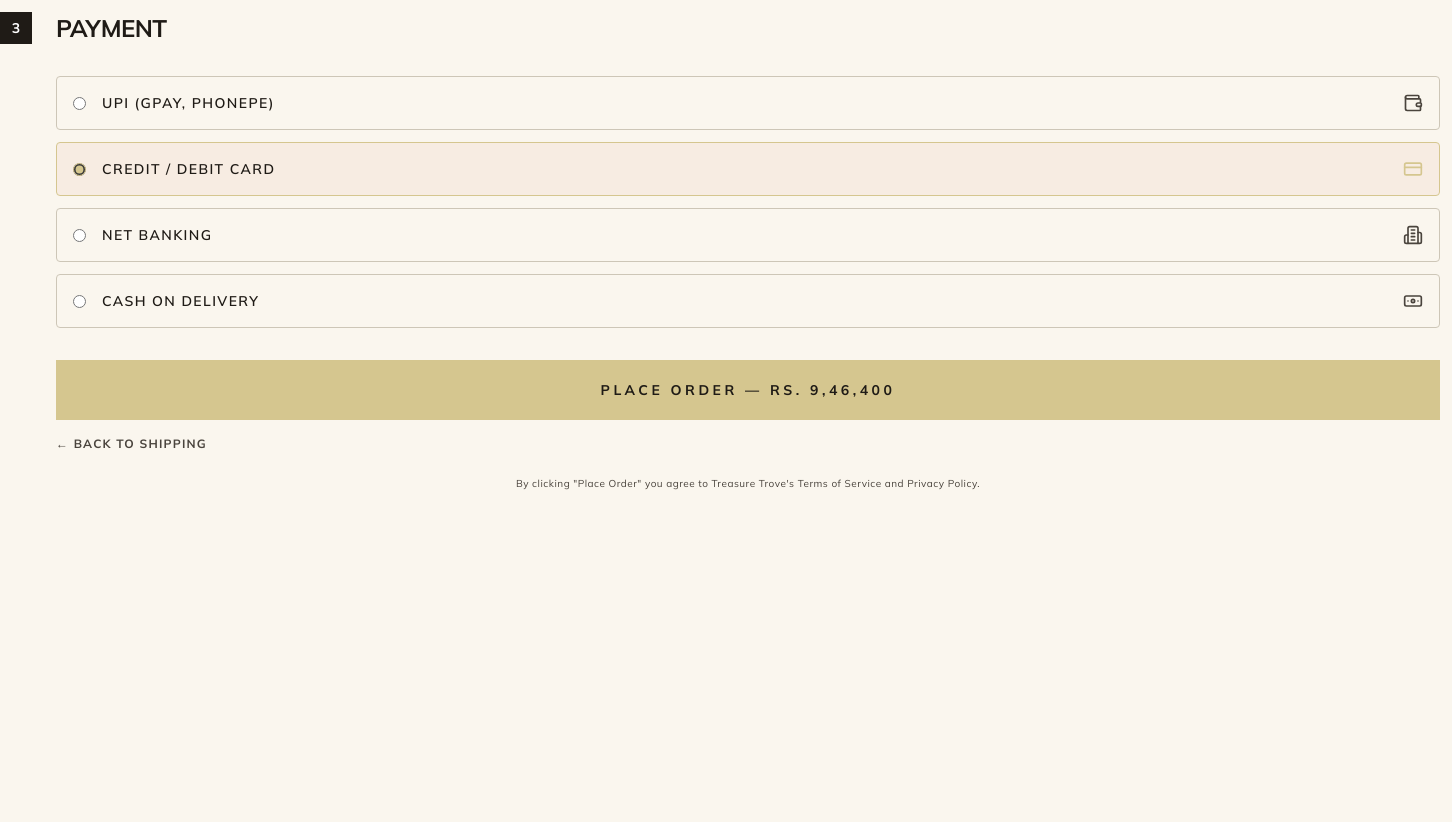
Test: PaymentStep › shows a payment error when order completion fails after payment
What coordinates should you click on to do the following:
click the button with test id "place-order-button"
I would click on:
 (748, 390)
Its box is [56,360,1440,420].
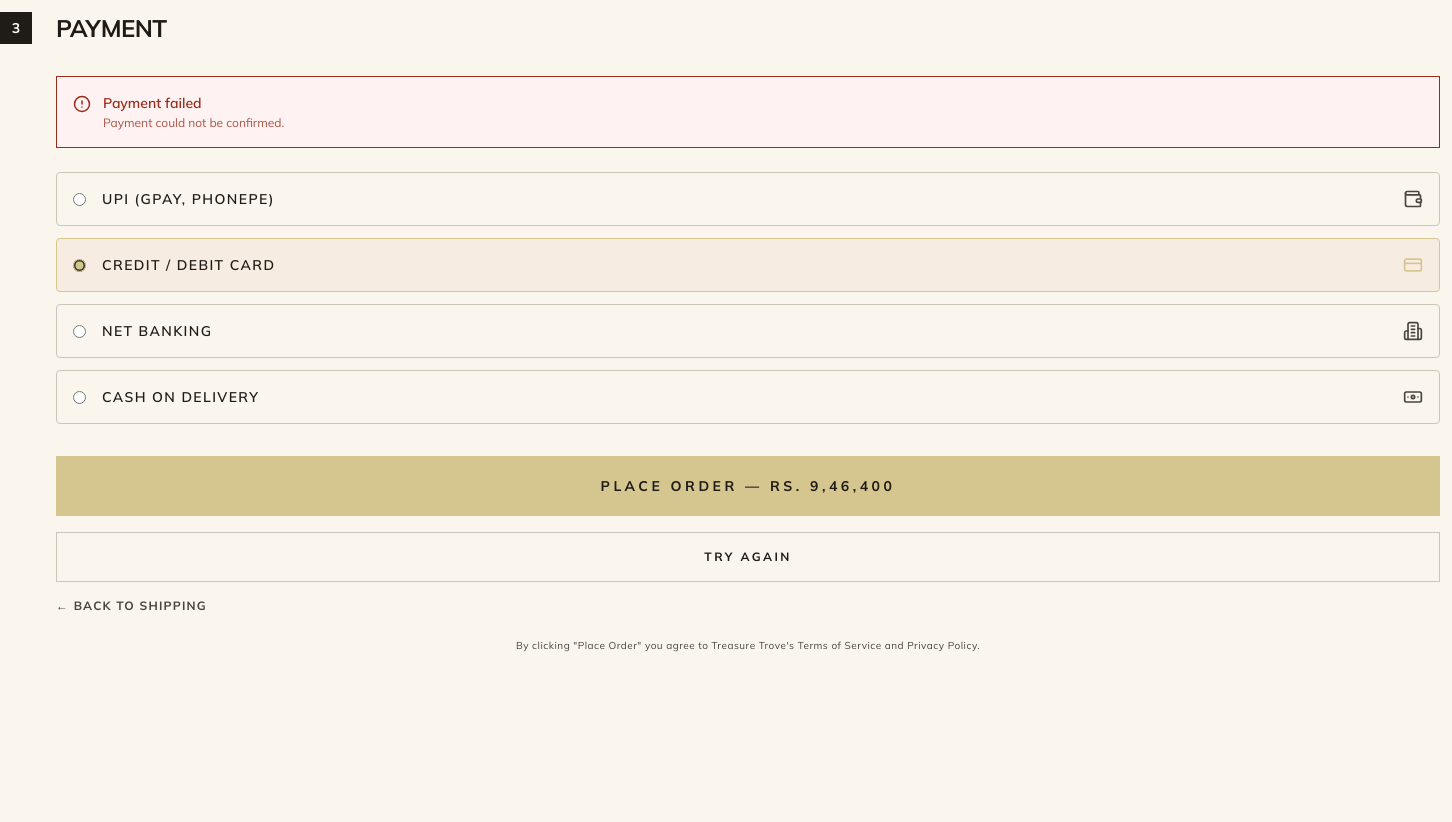
Expected: the message with test id "payment-error" shows "Payment could not be confirmed.", [103,115,284,130]
